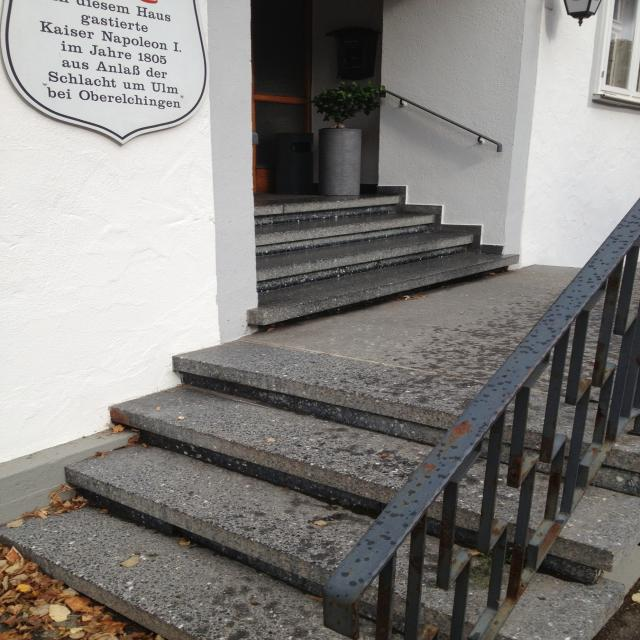AVOID: (2, 354, 640, 640), (255, 196, 513, 326)
